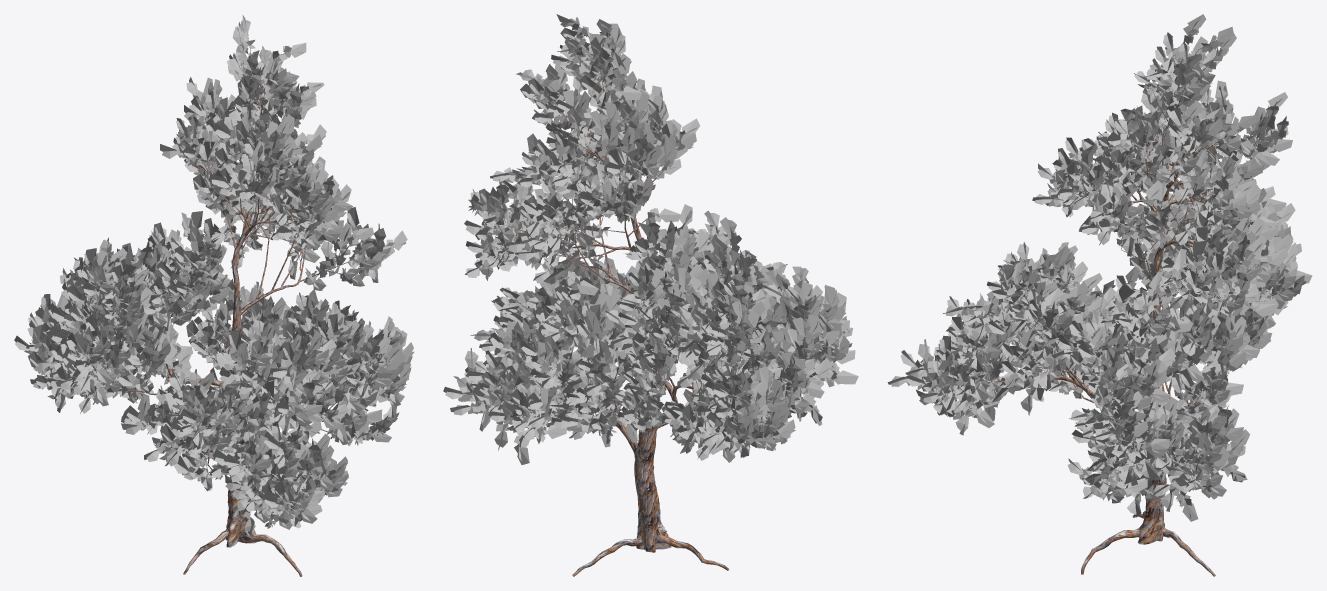
The model's file is treeGreen.fbx.
3 views of the same model, side by side, from view 1: azimuth 30°, elevation 25°; view 2: azimuth 150°, elevation 25°; view 3: azimuth 270°, elevation 25° (orthographic). The views are drawn at different scales.
Parts seen in each view (by area): view 1: Gum_Tree_Green2; view 2: Gum_Tree_Green2; view 3: Gum_Tree_Green2.
Part boxes in pixels (x1,y1,x2,y2): Gum_Tree_Green2: (14,15,414,576); Gum_Tree_Green2: (443,14,858,576); Gum_Tree_Green2: (887,14,1312,576).
Bounding box in the file's own units: 1768 × 2583 × 1788.
